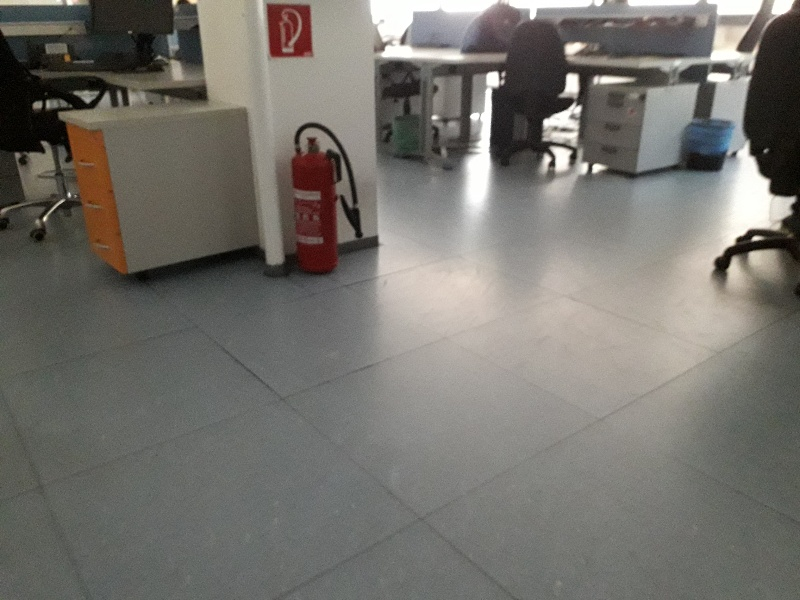vataparat: (291, 124, 363, 275)
